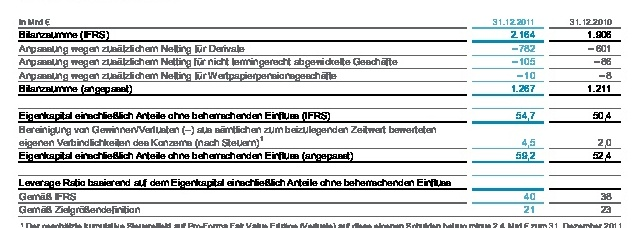table: (0, 0, 638, 228)
